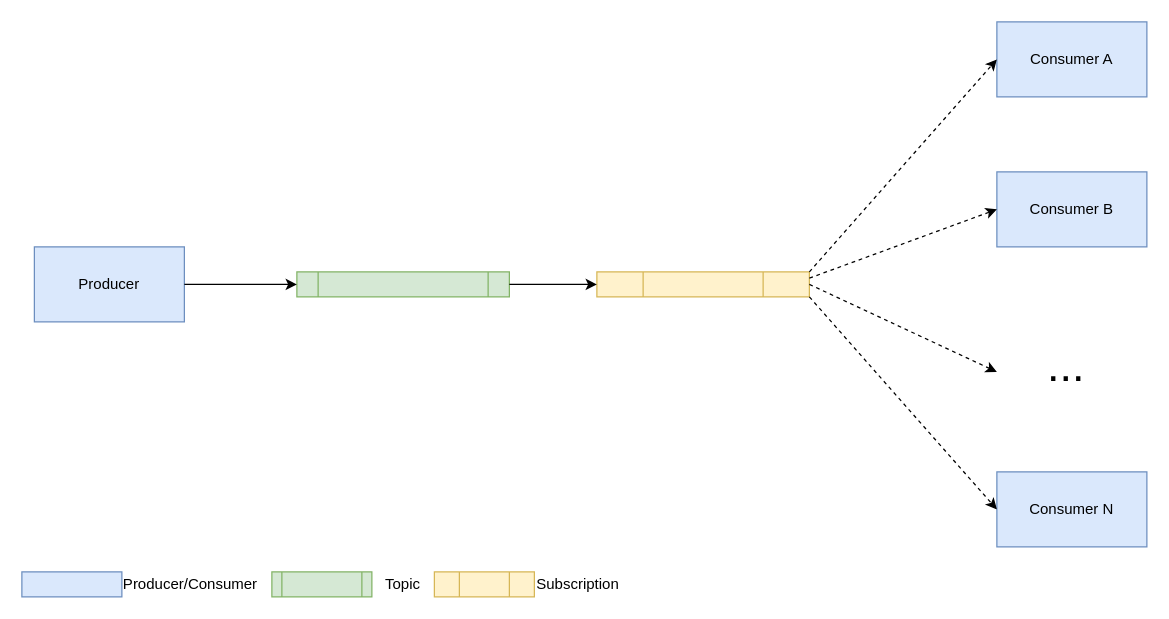
This 1169x619 diagram has some shape labels left out. The centre of each missing label's shape, as x and y in pixels:
DEV.BASE.TOPIC: (402,284)
SUB.SHARED: (702,284)
